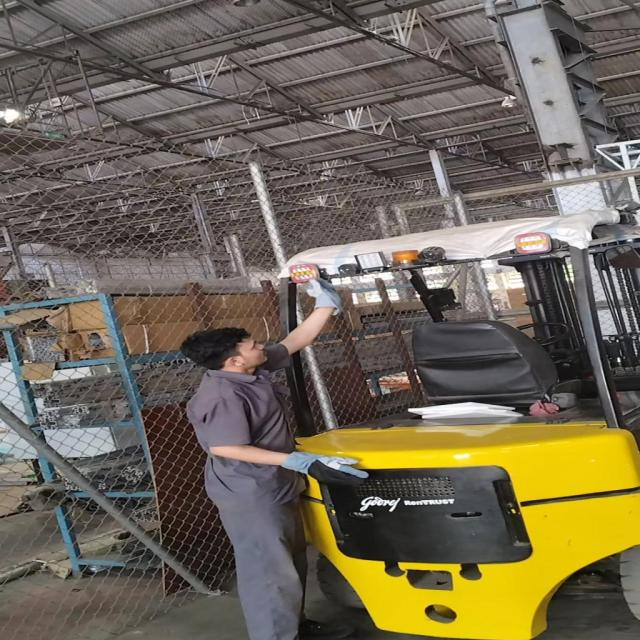Gloves-Detection: (282, 452, 360, 494), (297, 268, 342, 324)
